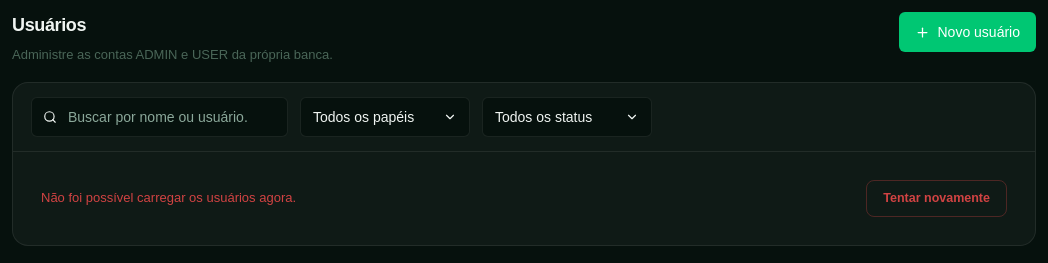
UsuariosSection — listagem › erro ao carregar mostra "Tentar novamente" que recarrega
This screenshot has width=1048, height=263.
Expected: the text "Não foi possível carregar os usuários agora." is shown, [41,188,296,208]
Click the button "Tentar novamente" at (937, 198), box [866,180,1007,217]
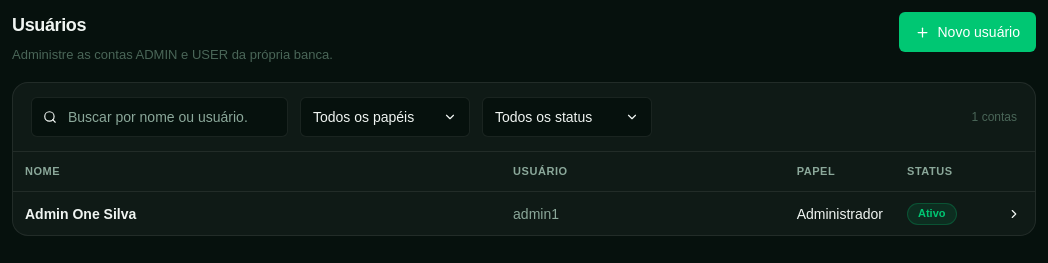
Expected: the text "Admin One Silva" is shown, [13,192,501,235]
